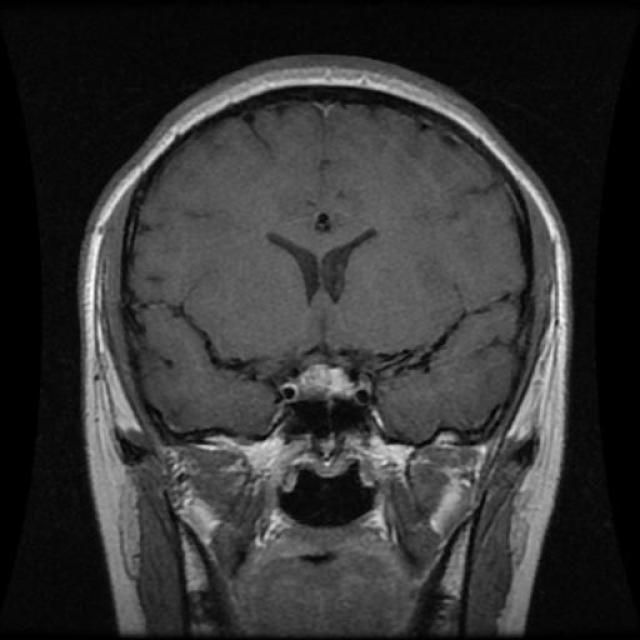pituitary: (262, 344, 402, 432)
